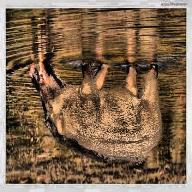boar: (24, 50, 163, 163)
